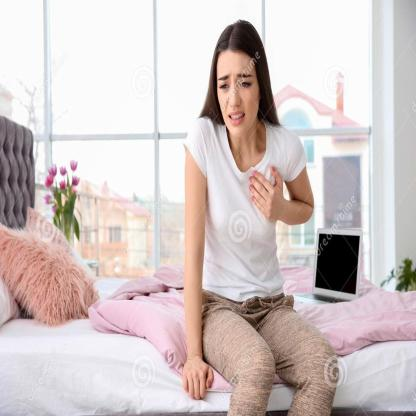pain: (212, 72, 255, 96)
